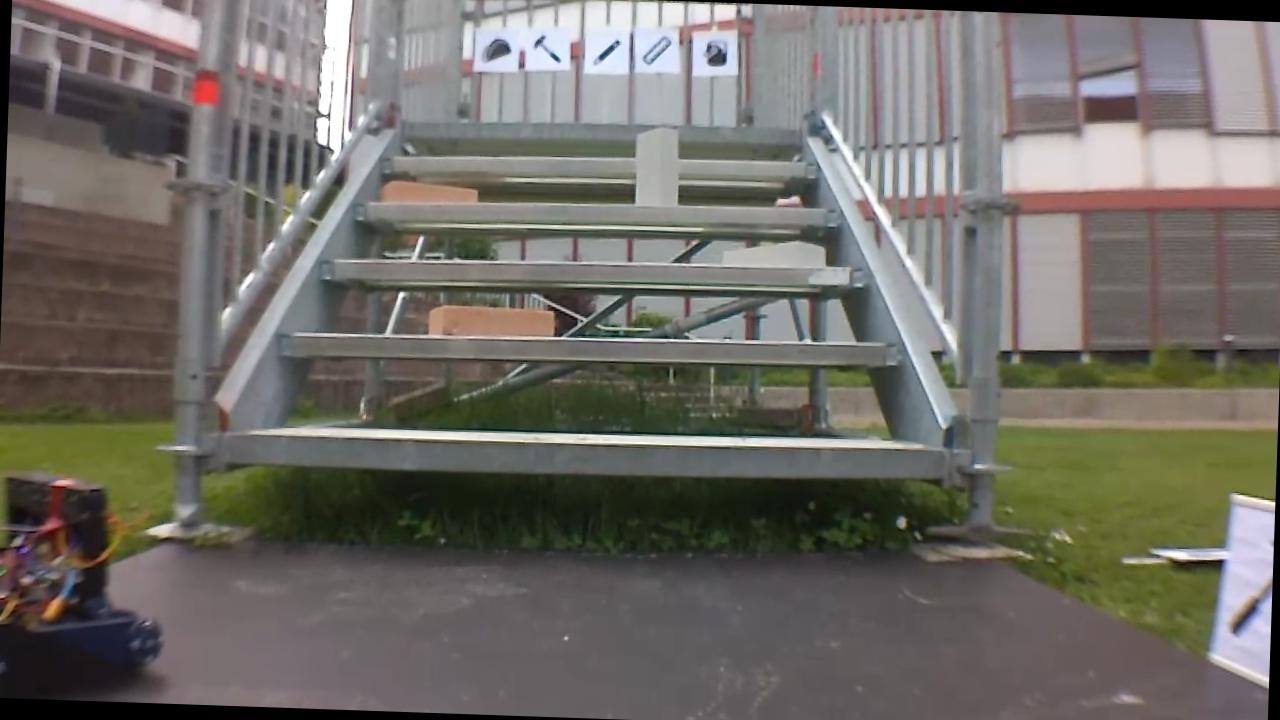brick: (428, 303, 553, 337), (634, 125, 680, 206), (381, 180, 475, 202)
bucket: (700, 34, 733, 69)
edge: (226, 422, 943, 486), (278, 322, 899, 371), (320, 247, 868, 295), (354, 191, 844, 230), (380, 147, 822, 184), (404, 115, 804, 145)
hammer: (525, 31, 565, 68)
pencil: (587, 33, 625, 70)
ruler: (640, 30, 677, 67)
steps: (218, 106, 964, 491)
taco: (478, 33, 516, 67)
